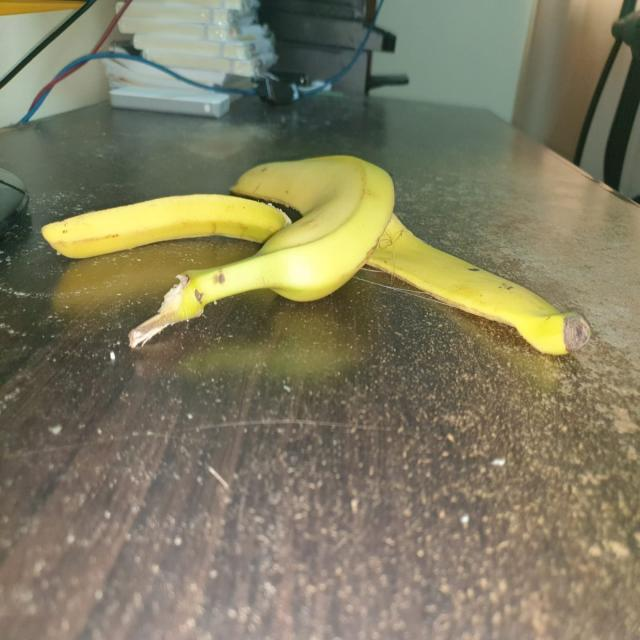banana-peel: (41, 153, 594, 360)
